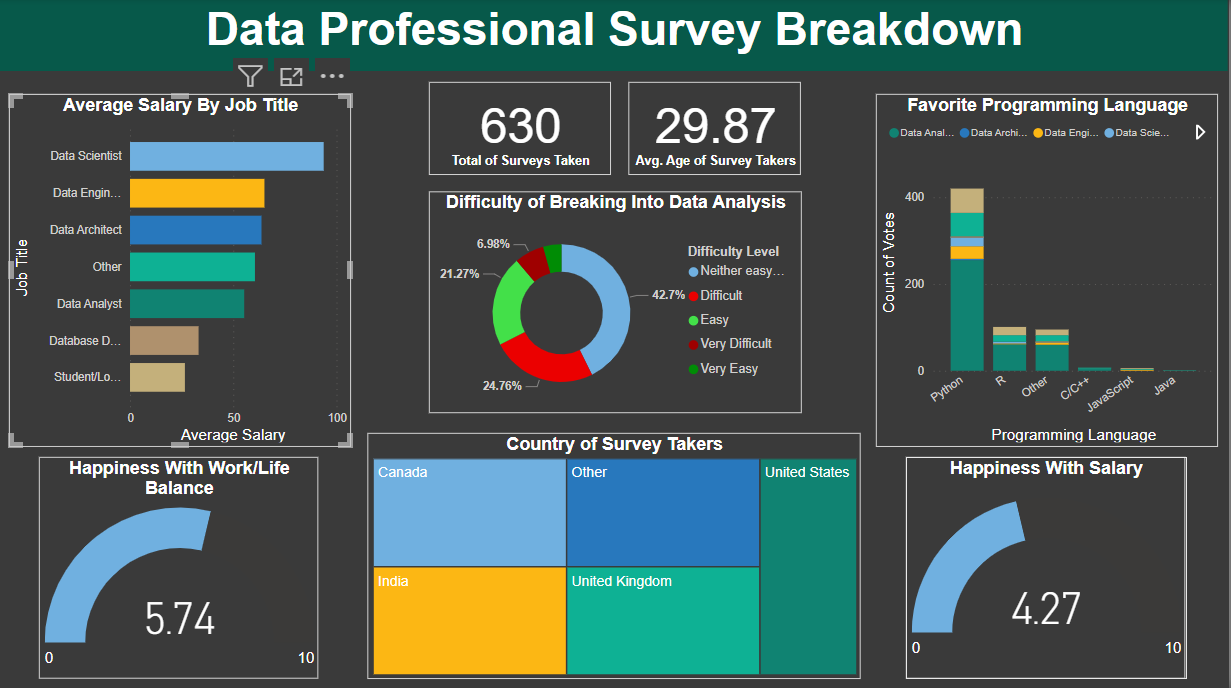

The dashboard page shown, as its layout file describes it:
{"tool":"powerbi","page":{"name":"Dashboard","canvas":[1280,720],"ordinal":0},"visuals":[{"type":"textbox","box":[0,0,1279.5,76.3],"z":1000},{"type":"card","fields":{"Values":["Count(Data Professional Survey.Unique ID)"]},"box":[446.6,87.4,189.1,97],"z":2000},{"type":"card","fields":{"Values":["Avg(Data Professional Survey.Q10 - Current Age)"]},"box":[654.8,87.4,179.6,97],"z":3000},{"type":"barChart","title":"Average Salary By Job Title","fields":{"Category":["Data Professional Survey.Q1 - Which Title Best Fits your Current Role?.1"],"Y":["Avg(Data Professional Survey.Avg. Salary)"],"Series":["Data Professional Survey.Q1 - Which Title Best Fits your Current Role?.1"]},"box":[14.1,87.5,345.2,367],"z":4000},{"type":"columnChart","title":"Favorite Programming Language","fields":{"Category":["Data Professional Survey.Q5 - Favorite Programming Language.1"],"Y":["CountNonNull(Data Professional Survey.Unique ID)"],"Series":["Data Professional Survey.Q1 - Which Title Best Fits your Current Role?.1"]},"box":[915.2,89,348.3,367],"z":5000},{"type":"treemap","title":"Country of Survey Takers","fields":{"Group":["Data Professional Survey.Q11 - Which Country do you live in?.1"],"Values":["Count(Data Professional Survey.Q11 - Which Country do you live in?.1)"]},"box":[367,467,537.3,242.1],"z":6000},{"type":"gauge","title":"Happiness With Work/Life Balance","fields":{"Y":["Avg(Data Professional Survey.Q6 - How Happy are you in your Current Position with the following? (Work/Life Balance))"],"MinValue":["Min(Data Professional Survey.Q6 - How Happy are you in your Current Position with the following? (Work/Life Balance))"],"MaxValue":["Max(Data Professional Survey.Q6 - How Happy are you in your Current Position with the following? (Work/Life Balance))1"]},"box":[41.3,478.4,290.9,230.5],"z":7000},{"type":"gauge","title":"Happiness With Salary","fields":{"Y":["Avg(Data Professional Survey.Q6 - How Happy are you in your Current Position with the following? (Salary))"],"MinValue":["Min(Data Professional Survey.Q6 - How Happy are you in your Current Position with the following? (Salary))"],"MaxValue":["Max(Data Professional Survey.Q6 - How Happy are you in your Current Position with the following? (Salary))1"]},"box":[944.1,478.4,290.9,230.5],"z":8000},{"type":"donutChart","title":"Difficulty of Breaking Into Data Analysis","fields":{"Category":["Data Professional Survey.Q7 - How difficult was it for you to break into Data?"],"Y":["CountNonNull(Data Professional Survey.Q7 - How difficult was it for you to break into Data?)"]},"box":[446.6,201.9,387.8,230.5],"z":9000}]}

Visuals, with their boxes in screenshot pixels (x1, y1, x2, y2), scaled from the page's 1280x720 canvas onto the 1231x688 screenshot:
textbox: (left=0, top=0, right=1230, bottom=73)
card - Count(Data Professional Survey.Unique ID): (left=430, top=84, right=611, bottom=176)
card - Avg(Data Professional Survey.Q10 - Current Age): (left=630, top=84, right=802, bottom=176)
"Average Salary By Job Title" barChart: (left=14, top=84, right=346, bottom=434)
"Favorite Programming Language" columnChart: (left=880, top=85, right=1215, bottom=436)
"Country of Survey Takers" treemap: (left=353, top=446, right=870, bottom=678)
"Happiness With Work/Life Balance" gauge: (left=40, top=457, right=319, bottom=677)
"Happiness With Salary" gauge: (left=908, top=457, right=1188, bottom=677)
"Difficulty of Breaking Into Data Analysis" donutChart: (left=430, top=193, right=802, bottom=413)
